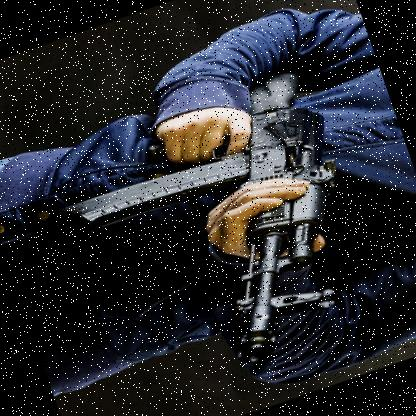rifle: (36, 51, 402, 407)
